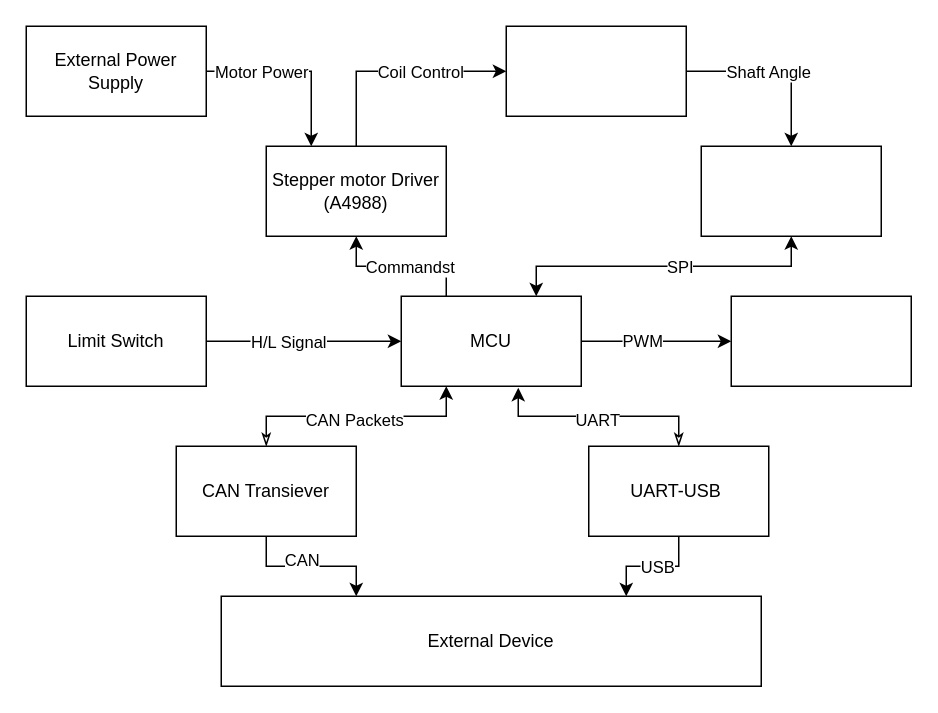
This 938x713 diagram has some shape labels left out. Here are the shapes that lost their labels. From the top down, the centre of each, then its label:
[595,70]: Stepper Motor
[790,190]: Magnetic Encoder (AS5048)
[820,340]: Indicator LEDs
